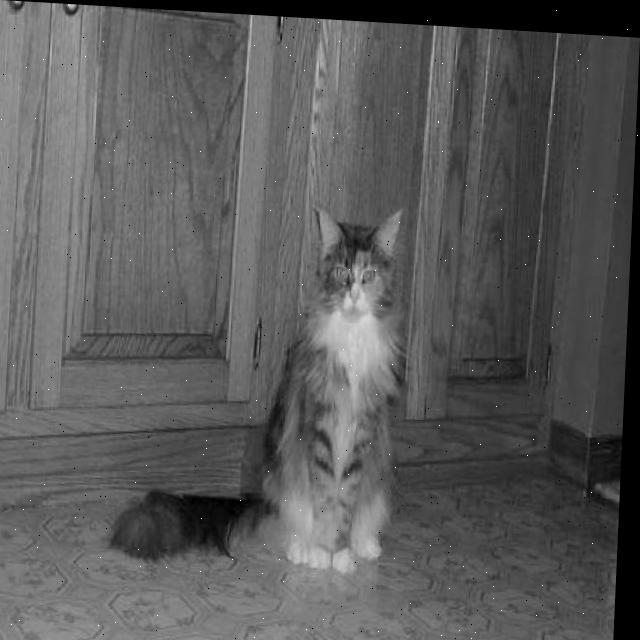Cat: (113, 194, 406, 571)
